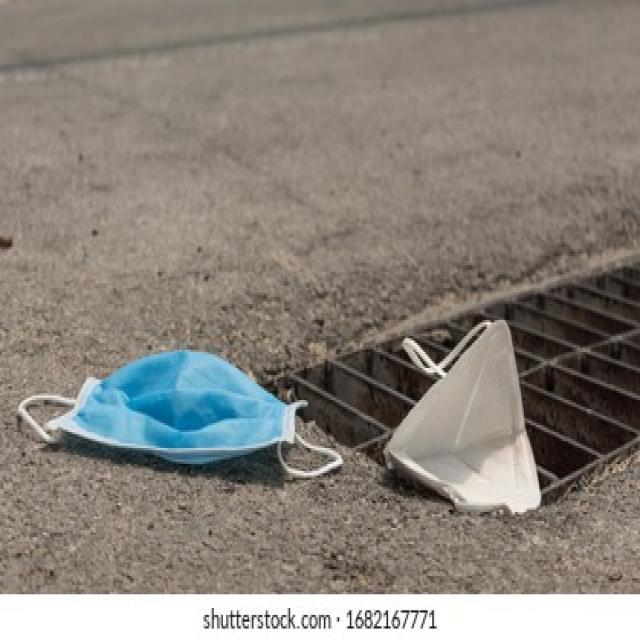face mask: (23, 340, 334, 482), (384, 324, 554, 534)
